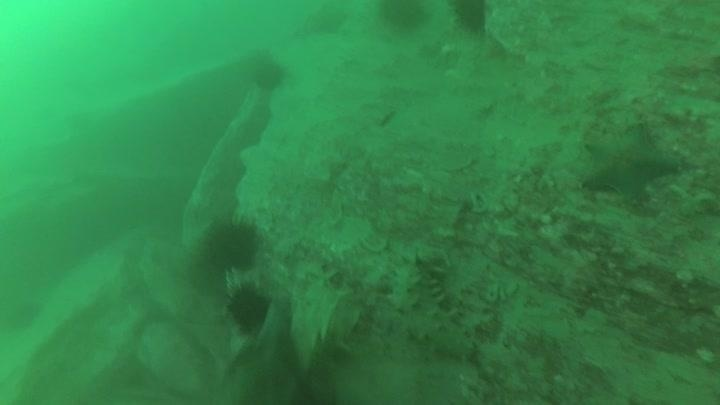echinus: (199, 214, 264, 276), (224, 282, 273, 334), (375, 1, 432, 35), (448, 1, 492, 37), (249, 56, 289, 94)
holothurian: (387, 246, 479, 363)
starfish: (577, 120, 683, 204)
